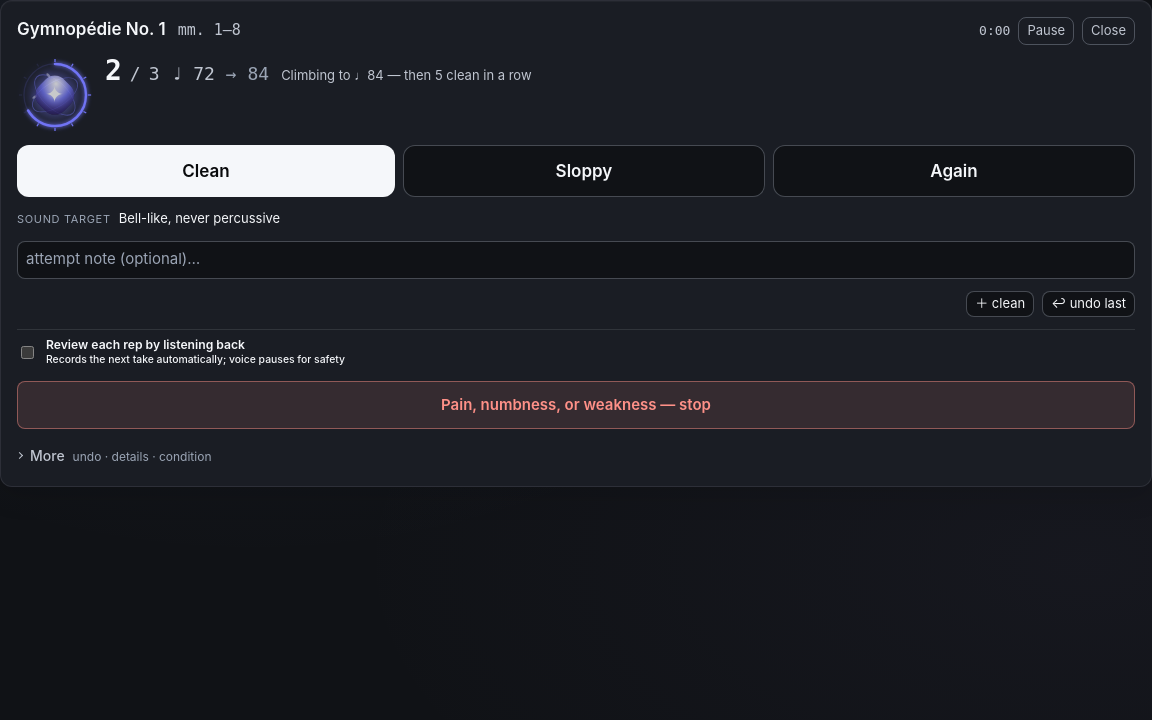
Test: RepHud › keeps the Region Sound target beside verdicts and persists edits
Click the button "Bell-like, never percussive": (199, 219) x1=119 y1=209 x2=280 y2=228
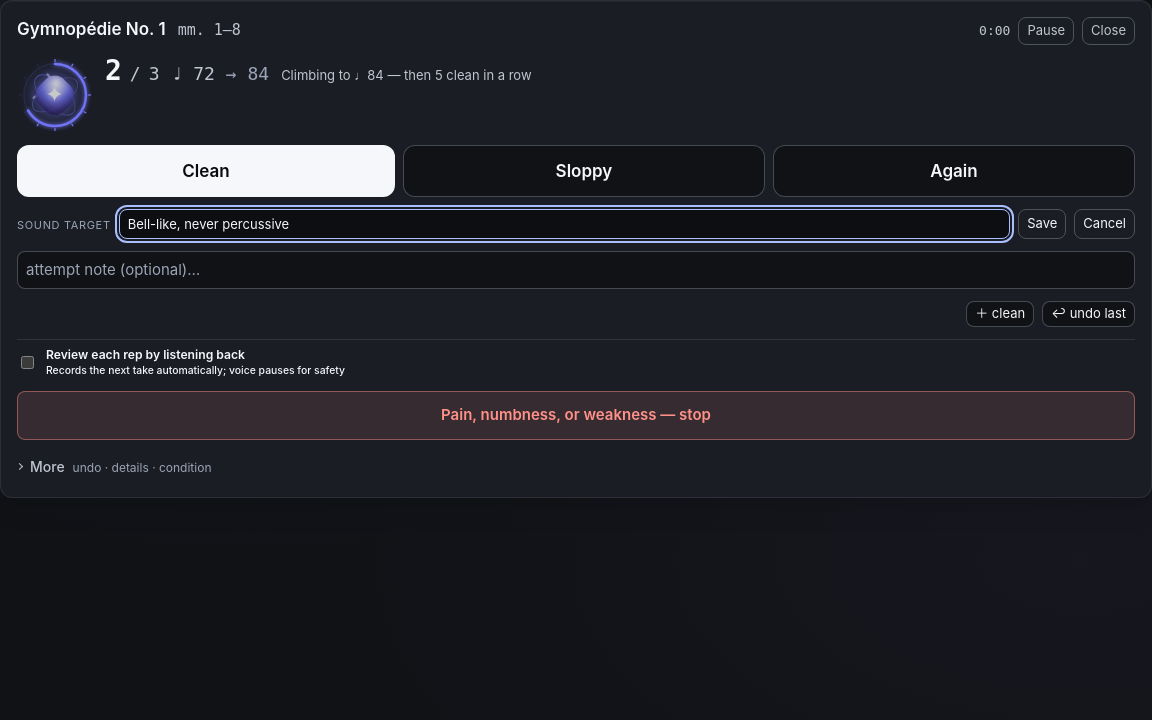
Replace the text in the field named "Region sound target" with "  A singing inner voice  ": (564, 224) x1=119 y1=209 x2=1010 y2=239
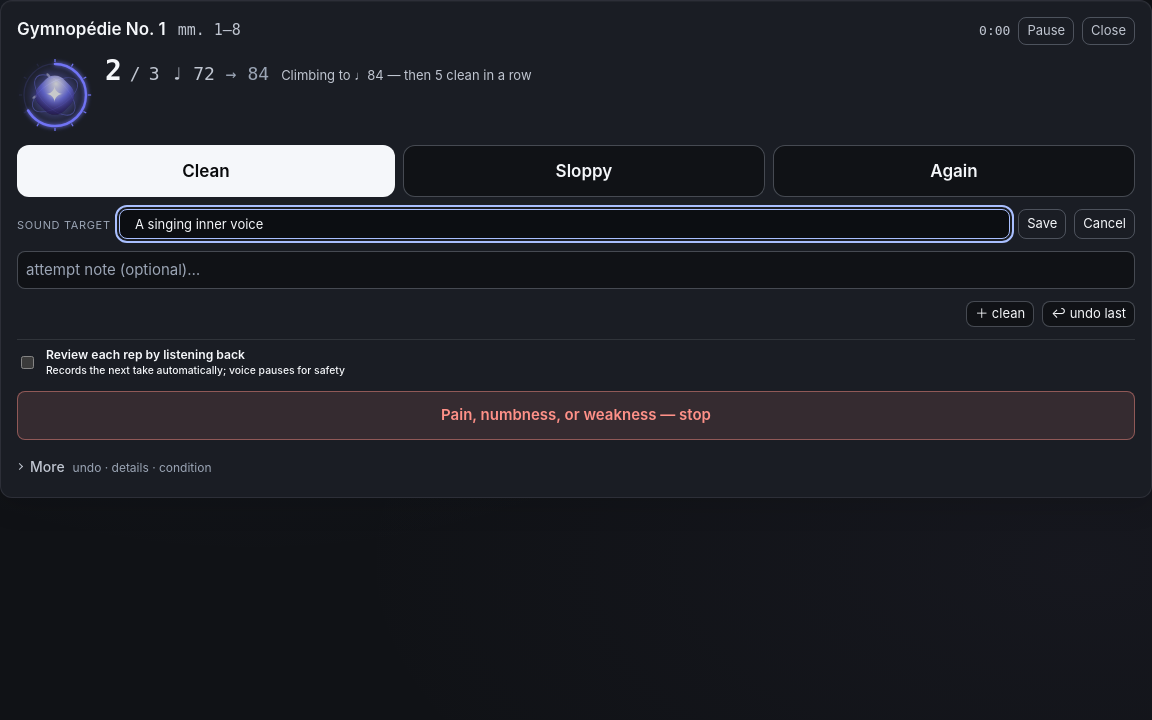
Click the button "Save": (1042, 224) x1=1018 y1=209 x2=1066 y2=239
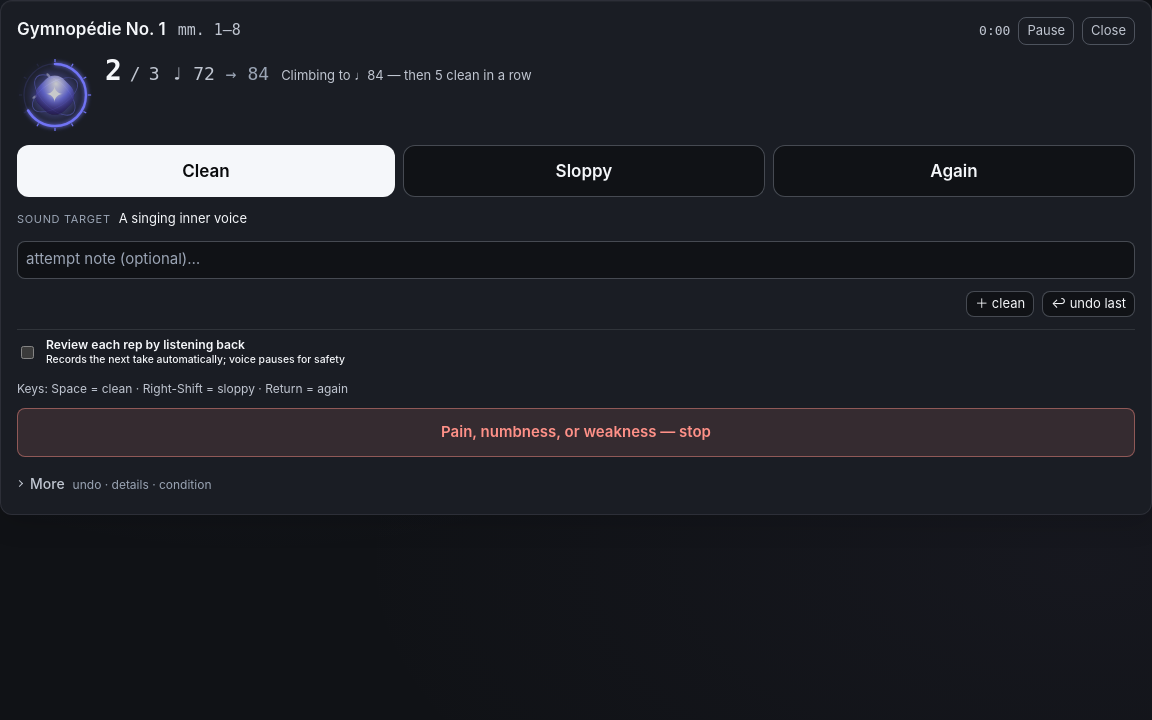
Expected: the button "A singing inner voice" is shown, x1=119 y1=209 x2=247 y2=228
